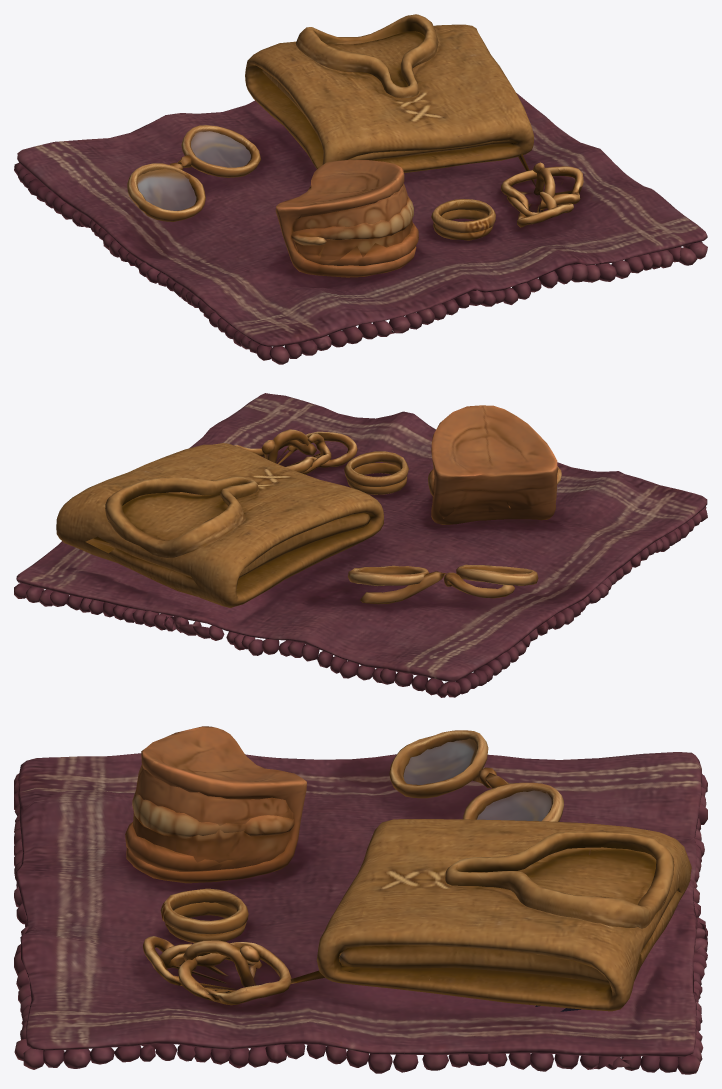
The model's file is sumicio_botin.glb.
3 renders of one model, top to bottom at view 1: azimuth 30°, elevation 25°; view 2: azimuth 150°, elevation 25°; view 3: azimuth 270°, elevation 25°, orthographic. The views are drawn at different scales.
Parts seen in each view (by area): view 1: Botin; view 2: Botin; view 3: Botin.
Boxes of the visible parts, x1,y1,x2,y2 form: Botin: (14, 14, 707, 364); Botin: (14, 393, 707, 697); Botin: (14, 726, 707, 1074).
Bounding box in the file's own units: 1 × 0.2315 × 1.
1 material, 1 textured.
